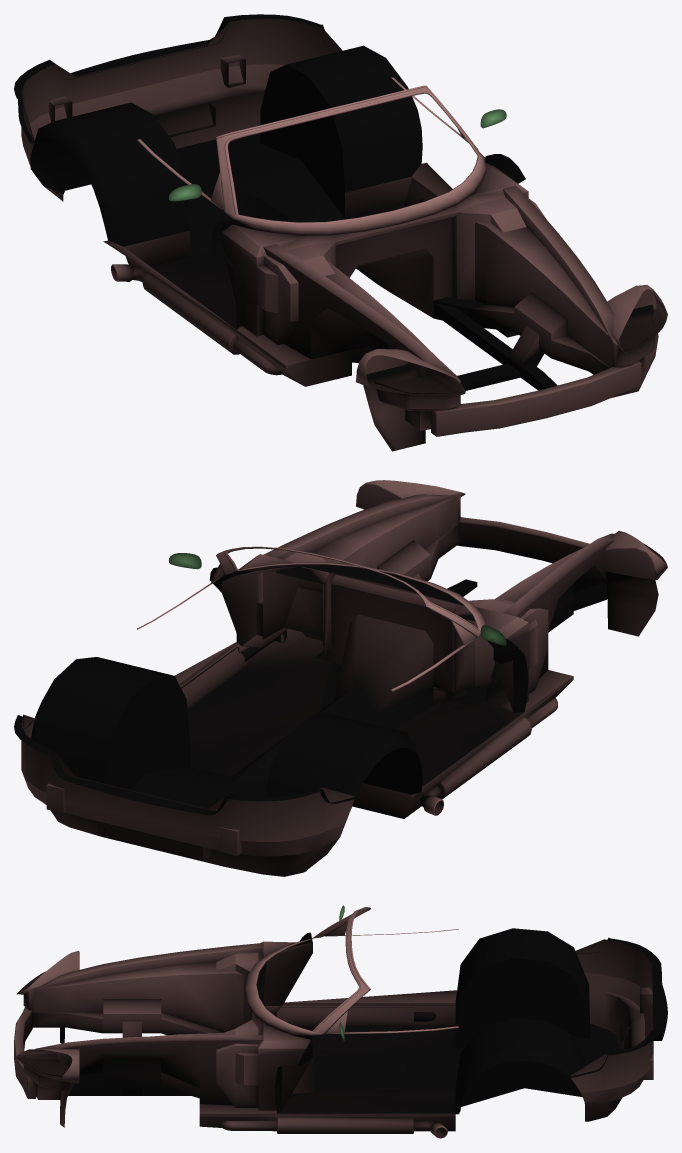
Rendered from Viper_Chassis_Trim.fbx.
3 renders of one model, top to bottom at view 1: azimuth 30°, elevation 25°; view 2: azimuth 150°, elevation 25°; view 3: azimuth 270°, elevation 25°, orthographic. The views are drawn at different scales.
Visible parts, largest first — view 1: Viper_Chassis_Trim; view 2: Viper_Chassis_Trim; view 3: Viper_Chassis_Trim.
Boxes of the visible parts, x1,y1,x2,y2 form: Viper_Chassis_Trim: (14,14,667,451); Viper_Chassis_Trim: (14,480,667,876); Viper_Chassis_Trim: (14,905,667,1138).
Size of the model in its own units: 195 by 99.81 by 415.
